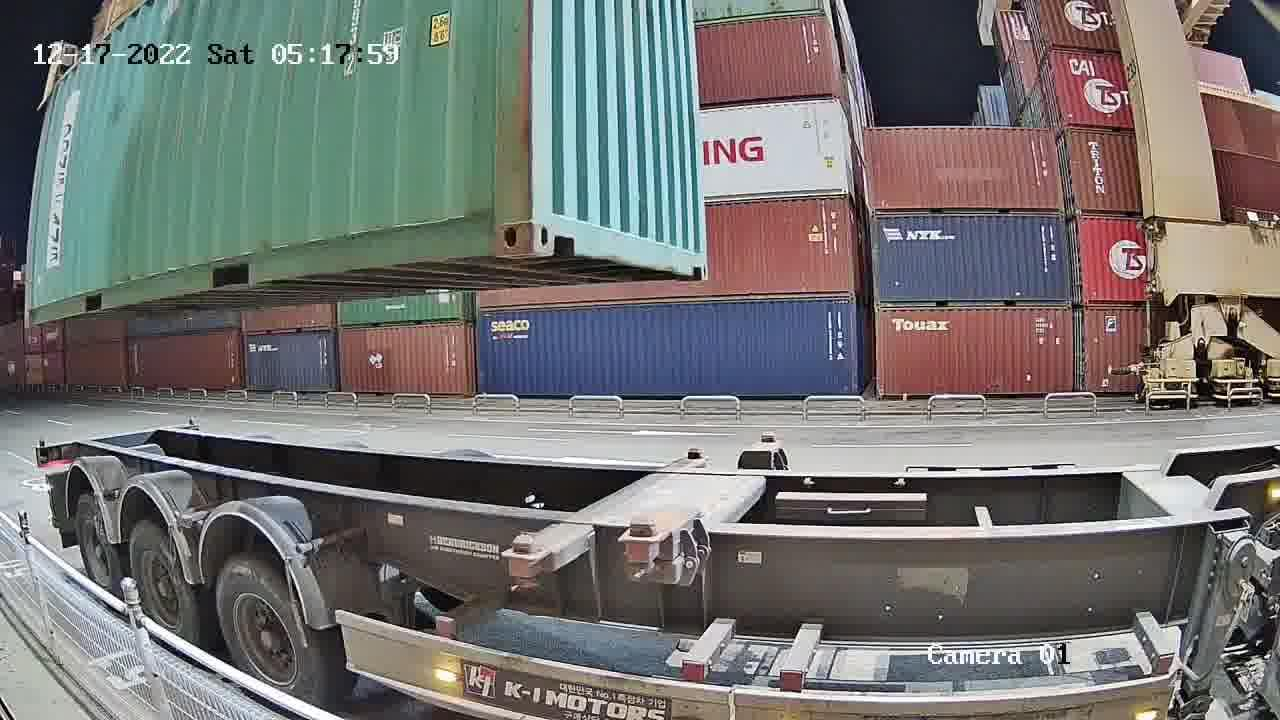Chassis: (510, 449, 713, 576)
Cone: (511, 570, 548, 599)
Container: (530, 182, 710, 278)
Hole_L: (531, 181, 572, 258)
Hole_R: (463, 179, 533, 254), (687, 232, 710, 280)
Tire: (212, 558, 325, 701), (126, 525, 201, 642), (72, 499, 123, 600)
